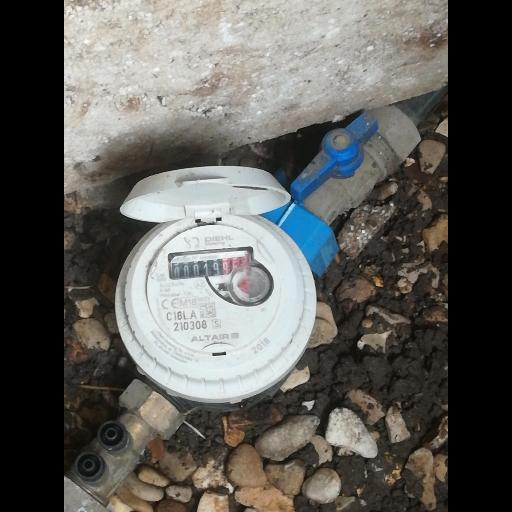0: (181, 262, 193, 281), (172, 262, 183, 281), (192, 261, 203, 279)
1: (201, 260, 212, 278)
3: (240, 253, 250, 268)
6: (229, 257, 241, 272)
9: (210, 259, 222, 278), (221, 257, 231, 275)
border_water_meter_number: (169, 250, 255, 282)
